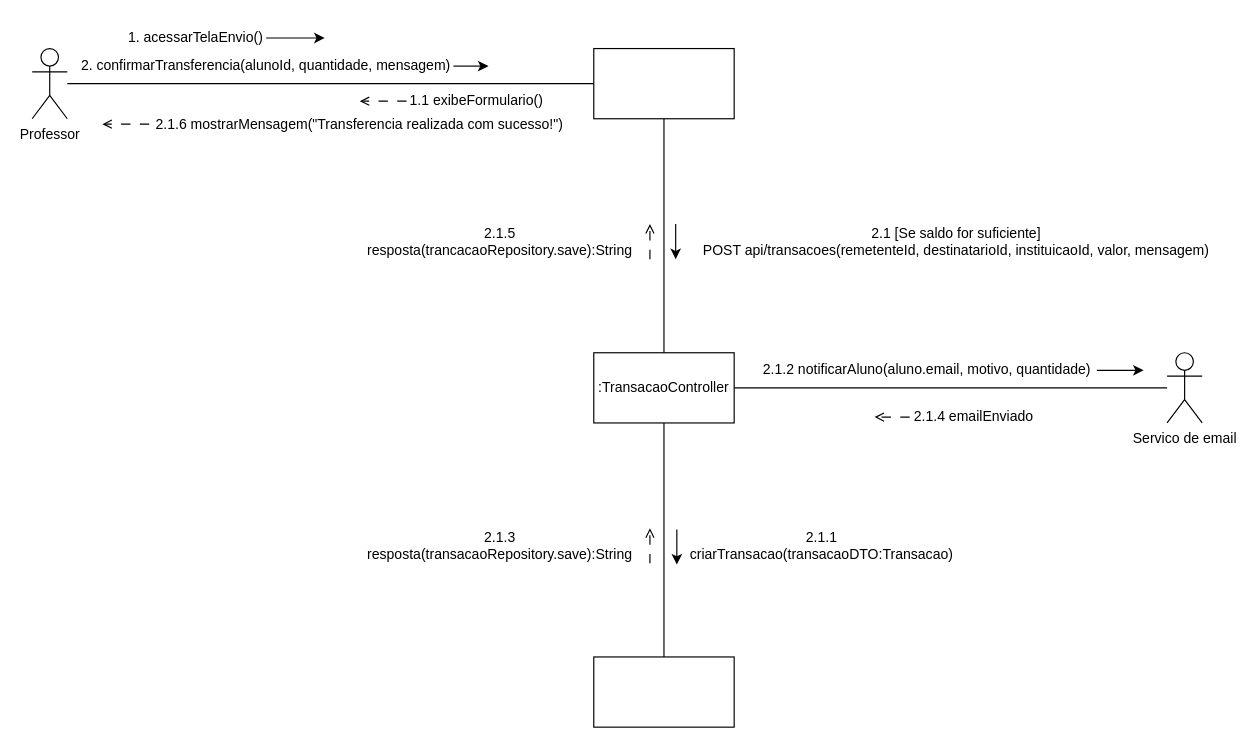
The diagram is 1257 pixels wide and 748 high, and some of its shapes have lost their labels. Each missing label, with the centre of its shape:
:TransacaoRepository: the point at 663,691
:TransacaoView: the point at 663,83
